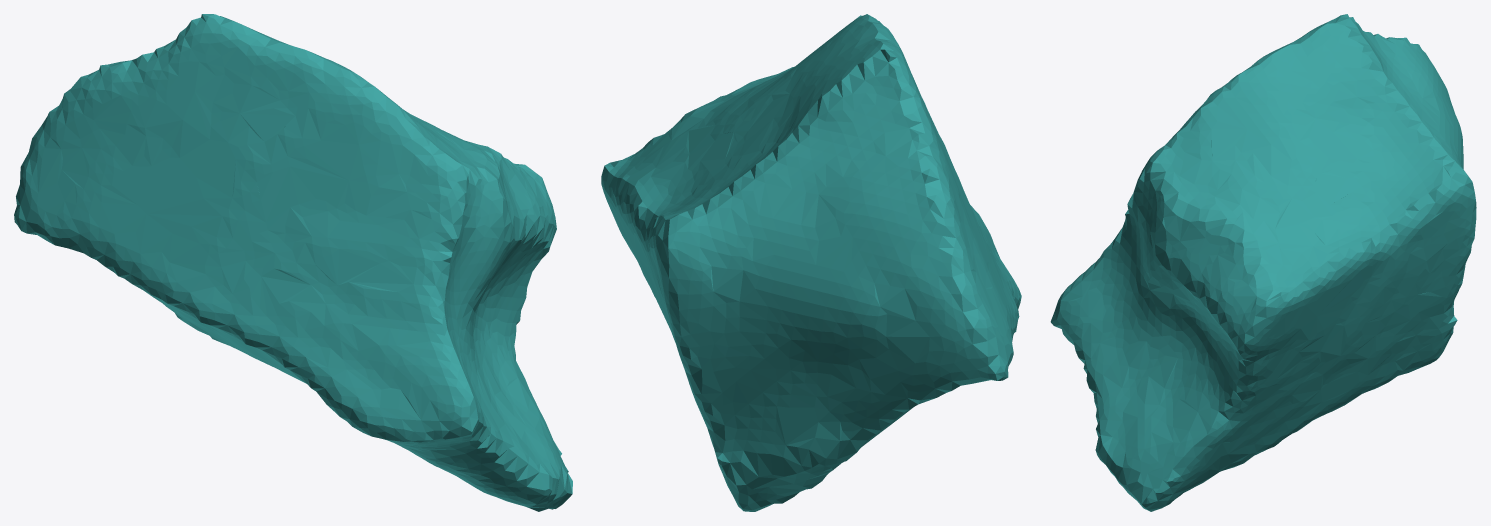
File: Model_10036_LH__Area_6_of_cortex__ventral__part_a_(A6Va).obj
3 renders of one model, left to right at view 1: azimuth 30°, elevation 25°; view 2: azimuth 150°, elevation 25°; view 3: azimuth 270°, elevation 25°, orthographic. The views are drawn at different scales.
Bounding box in the file's own units: 3.63 × 3.73 × 3.6.
